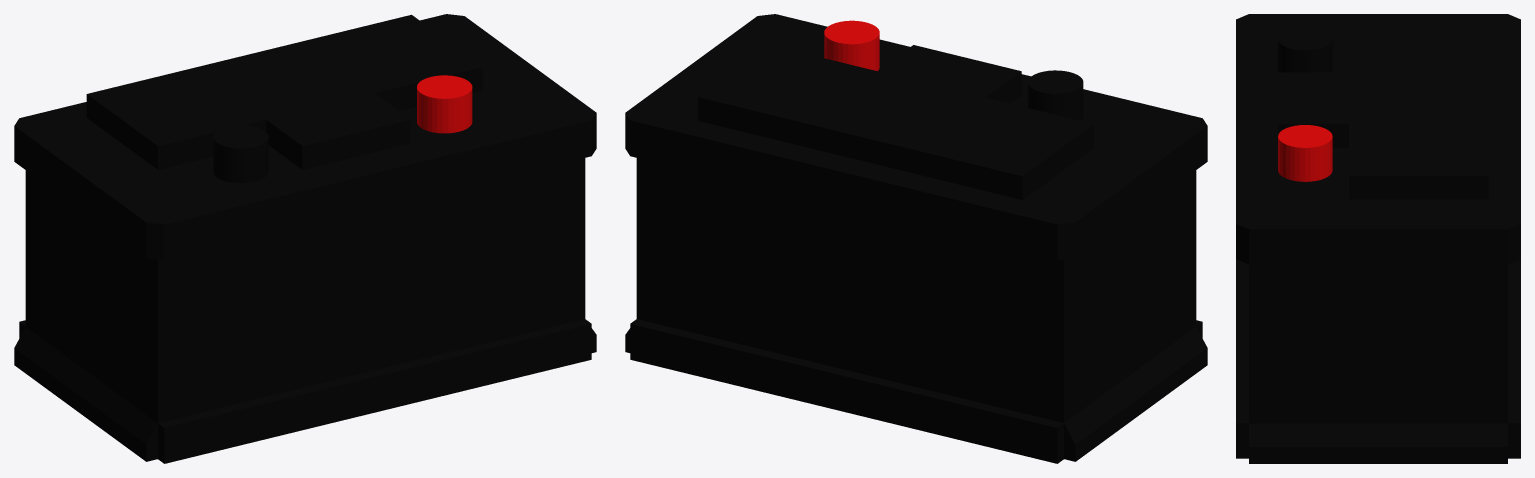
Rendered from Car Battery.fbx.
3 views of the same model, side by side, from view 1: azimuth 30°, elevation 25°; view 2: azimuth 150°, elevation 25°; view 3: azimuth 270°, elevation 25° (orthographic). The views are drawn at different scales.
Visible parts, largest first — view 1: Battery; view 2: Battery; view 3: Battery.
Boxes of the visible parts, left/top/right/bottom form: Battery: left=14, top=14, right=596, bottom=463; Battery: left=625, top=14, right=1207, bottom=463; Battery: left=1236, top=14, right=1520, bottom=463.
Size of the model in its own units: 394 by 229 by 220.
